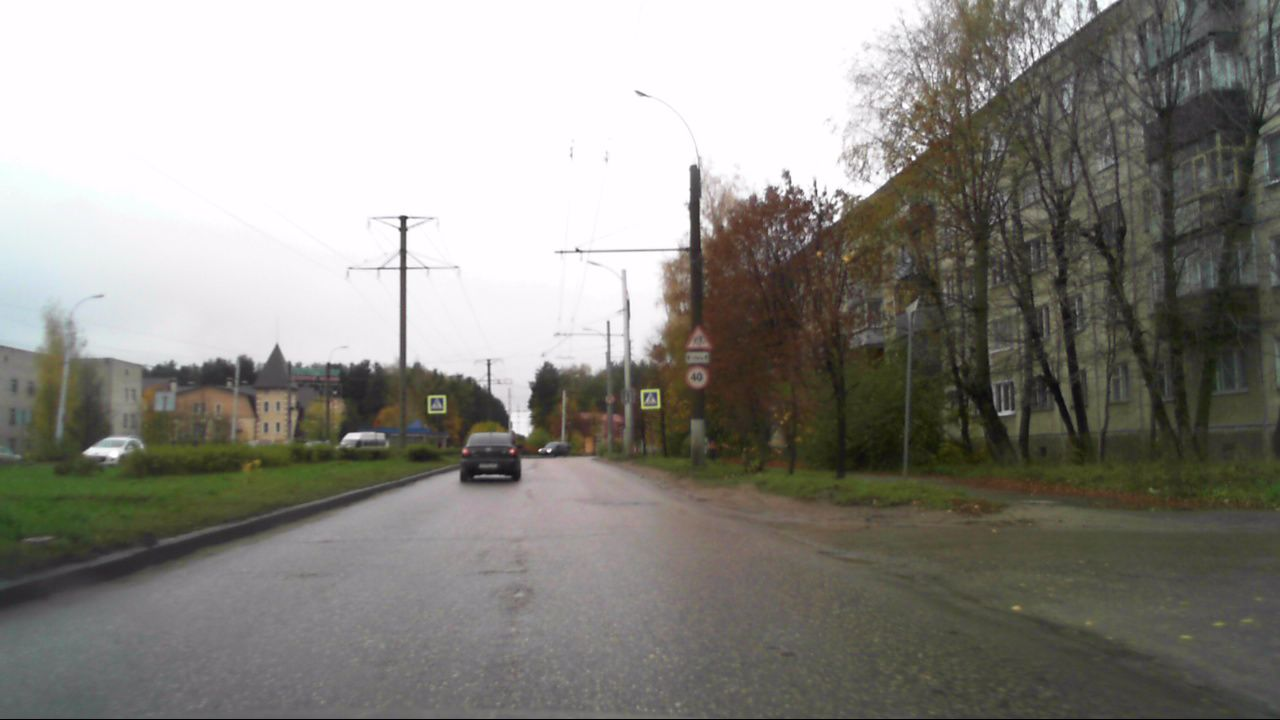speed_warning_40: (685, 365, 709, 388)
